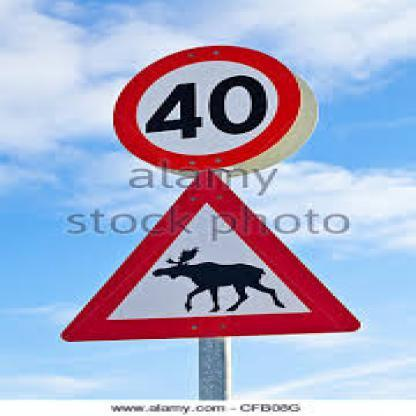Speed Limit 40: (118, 44, 296, 164)
